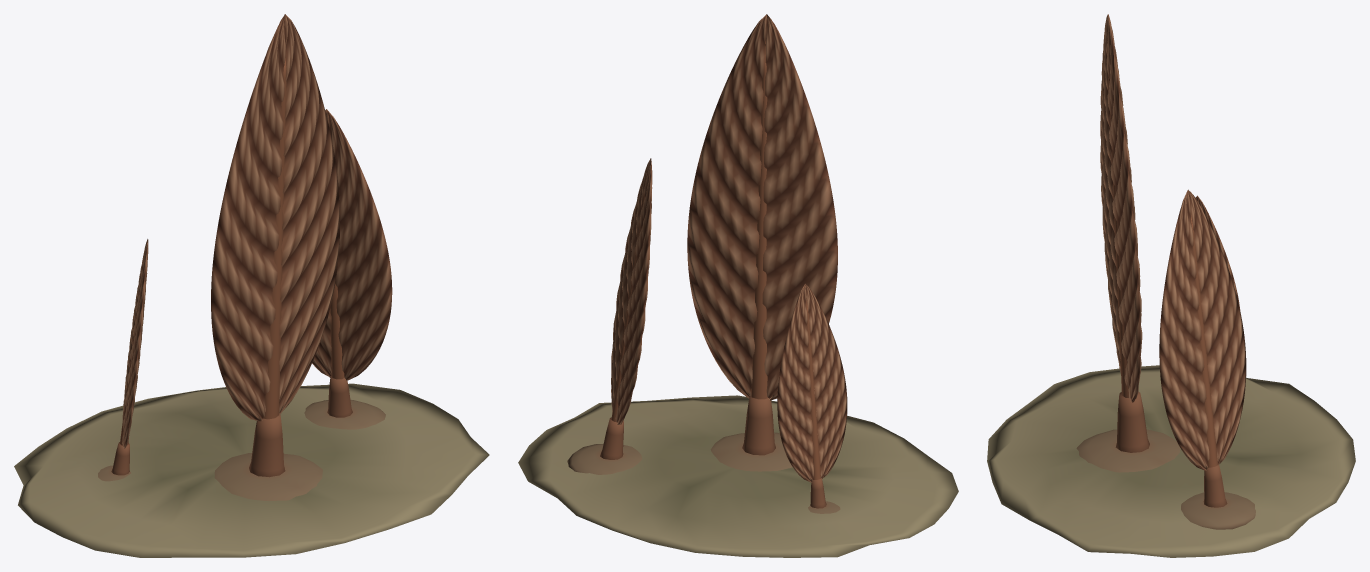
The model's file is Charnia.fbx.
3 views of the same model, side by side, from view 1: azimuth 30°, elevation 25°; view 2: azimuth 150°, elevation 25°; view 3: azimuth 270°, elevation 25° (orthographic). The views are drawn at different scales.
Parts seen in each view (by area): view 1: Charnia; view 2: Charnia; view 3: Charnia.
Boxes of the visible parts, bbox=[...] form: Charnia: bbox=[14, 14, 489, 557]; Charnia: bbox=[518, 14, 958, 557]; Charnia: bbox=[987, 14, 1355, 557].
Size of the model in its own units: 1.44 by 1.56 by 1.16.
